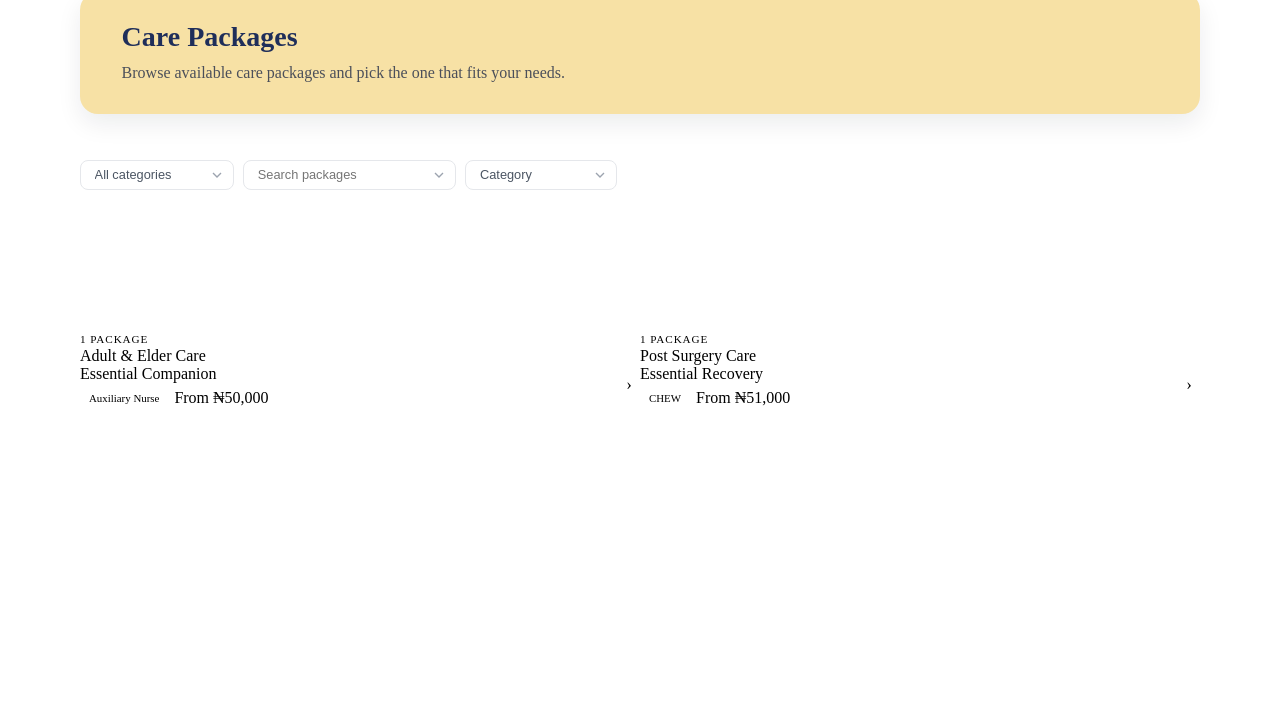
Test: PublicMarketplace follows the dashboard card pattern › logged in: authenticated catalog with prices, dashboard destination
Expected: the heading "Adult & Elder Care" is shown, [80,347,206,364]
Click the text "Essential Companion".
click(148, 374)  # box [80,365,216,383]
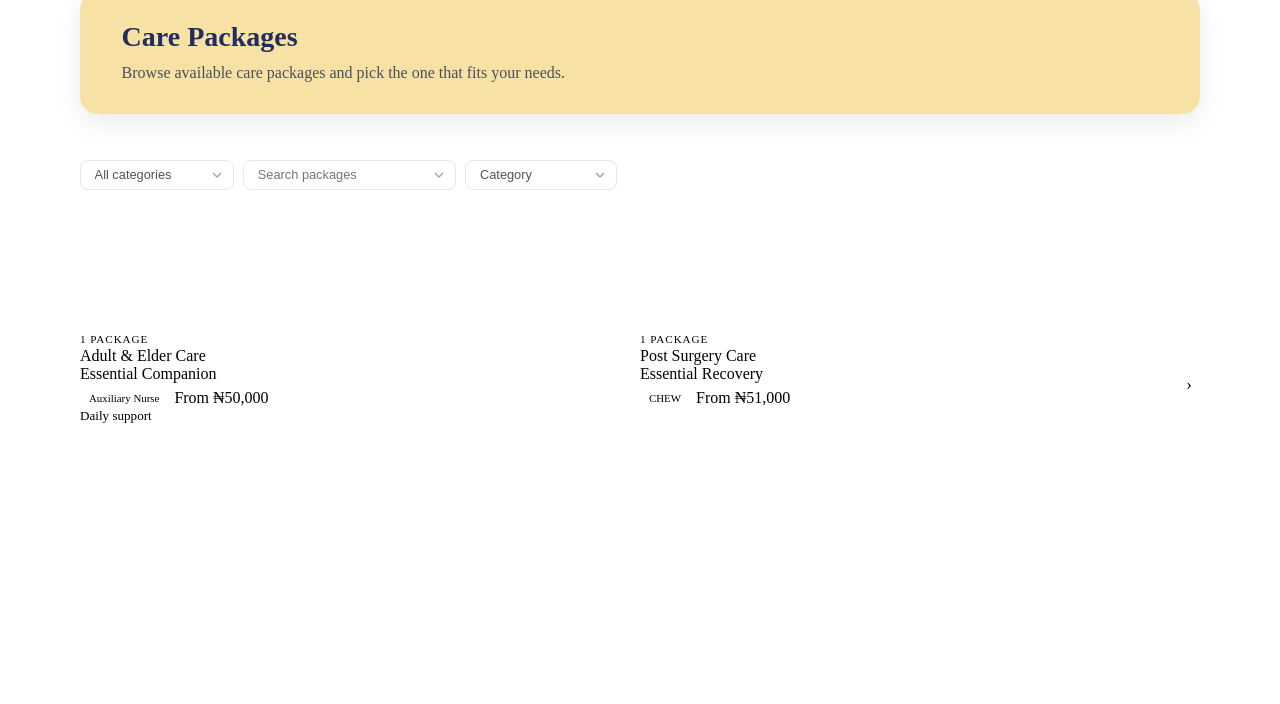
Click the button "Select this package ›".
click(158, 441)  # box [80,424,236,458]
(page scrolled)
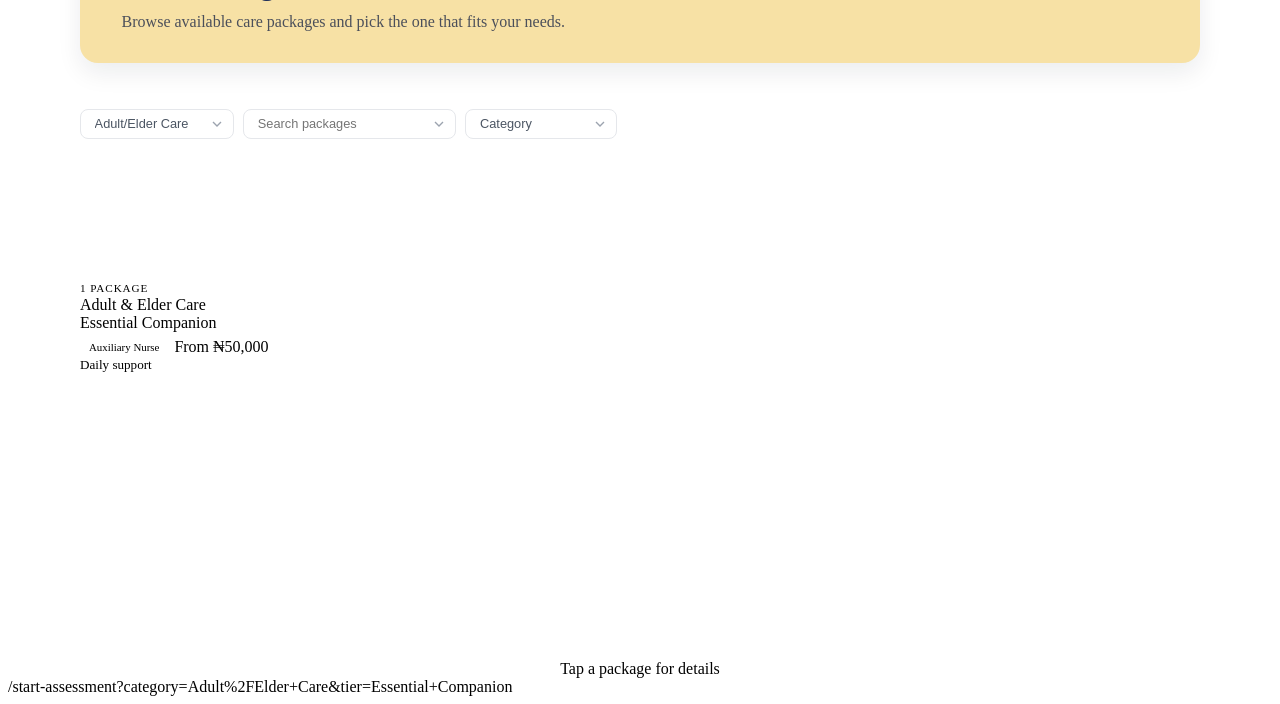
Expected: the text with test id "where" reads "/start-assessment?category=Adult%2FElder+Care&tier=Essential+Companion", [8,678,512,695]
